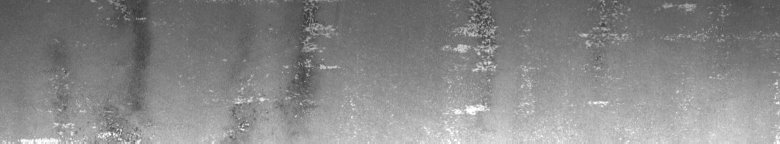hc: (48, 4, 146, 136)
